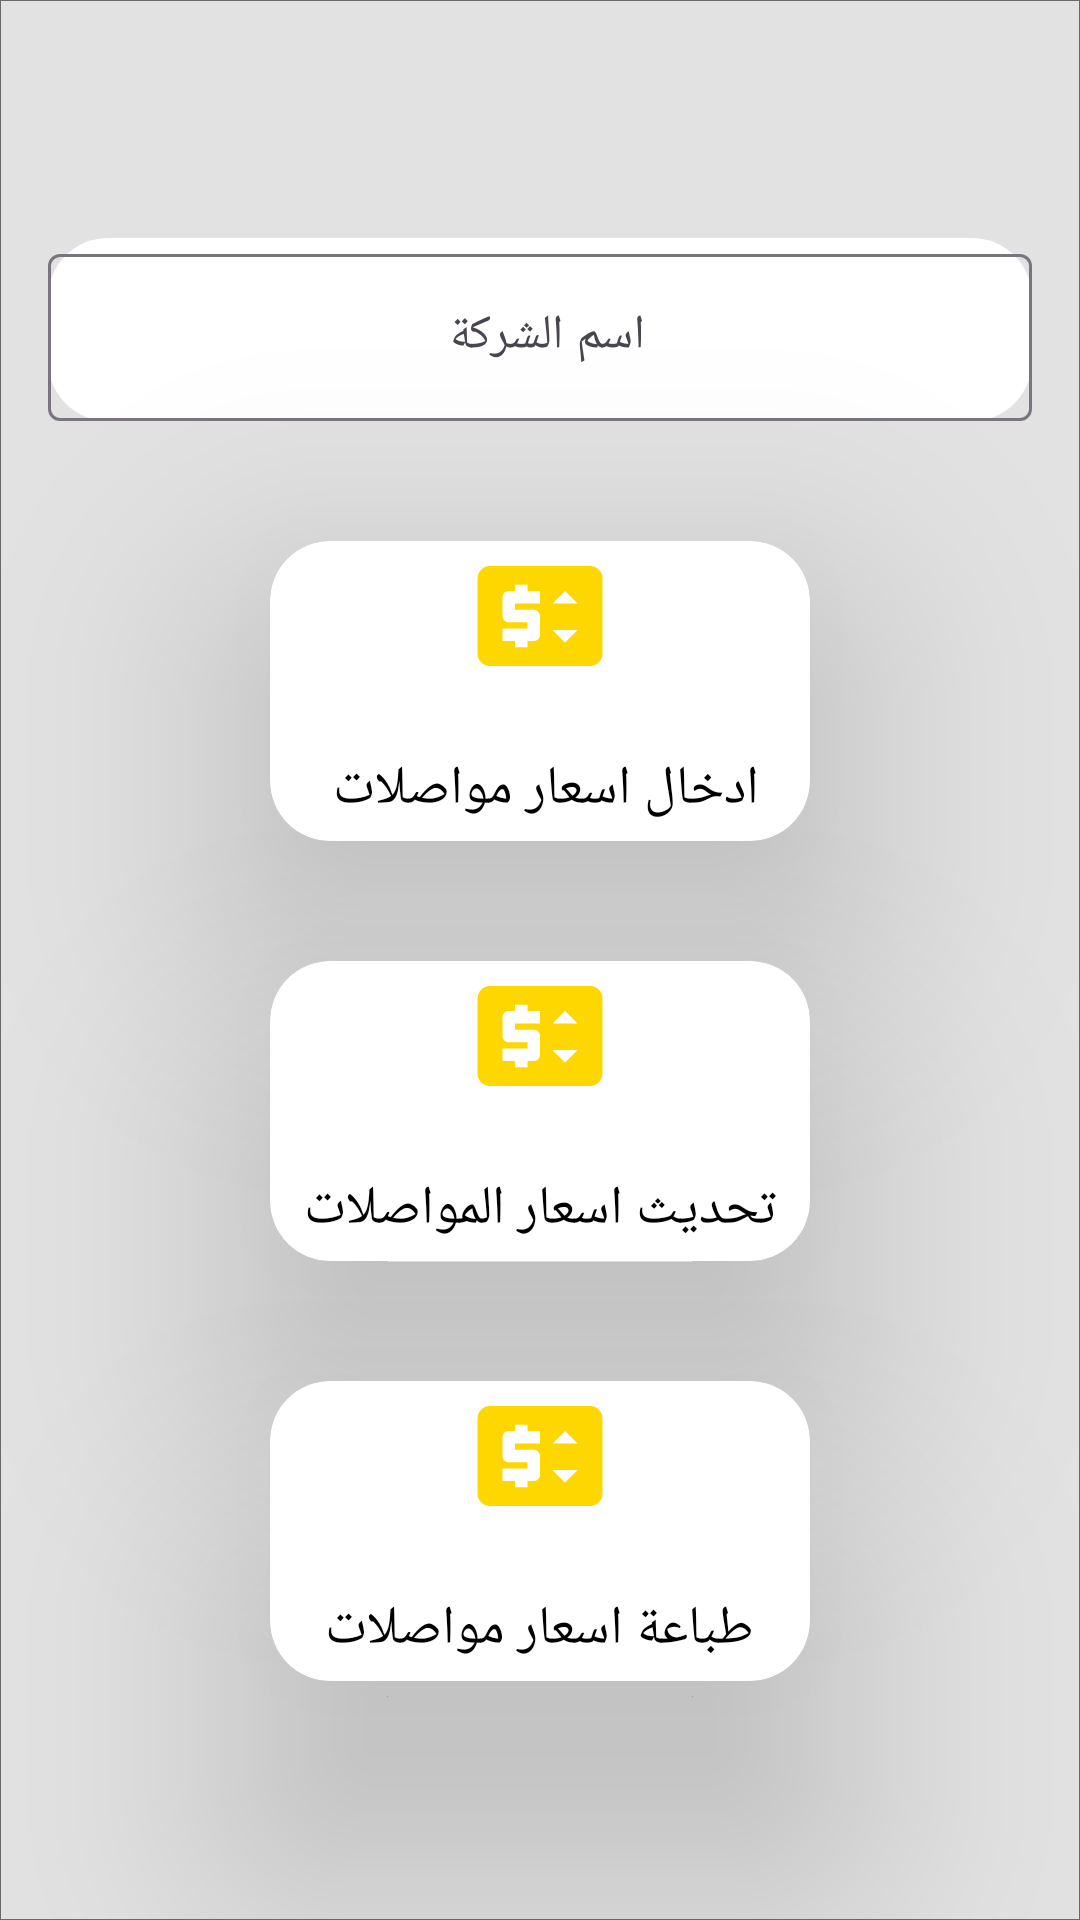

Screen size 1080w x 1920h. Icon name, then its box in pixels as [left=x1, top=y1, right=x2, bottom=y2]:
price change: [left=477, top=566, right=603, bottom=666], [left=477, top=986, right=603, bottom=1086], [left=477, top=1406, right=603, bottom=1506]
